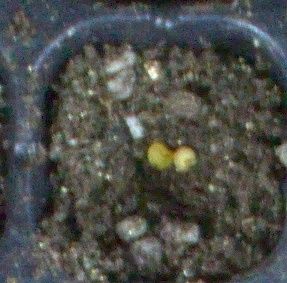chilli seed: (145, 140, 173, 171), (173, 145, 199, 172)
